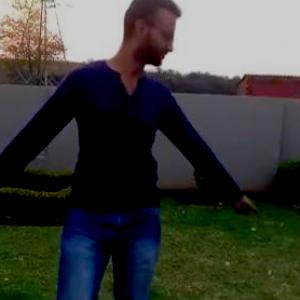land: (0, 0, 252, 299)
